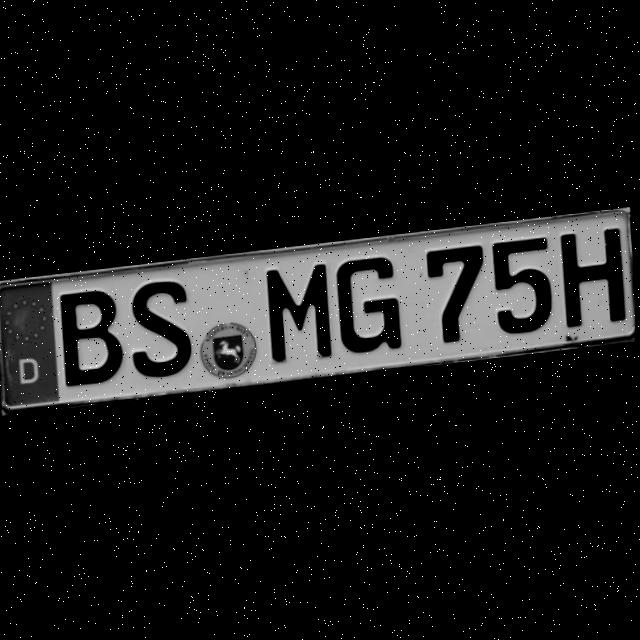license-plates: (0, 209, 635, 412)
